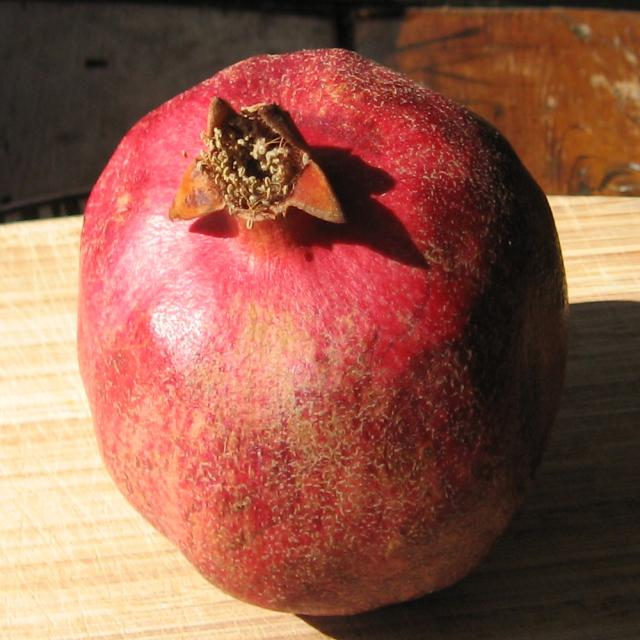apple: (74, 43, 574, 624)
